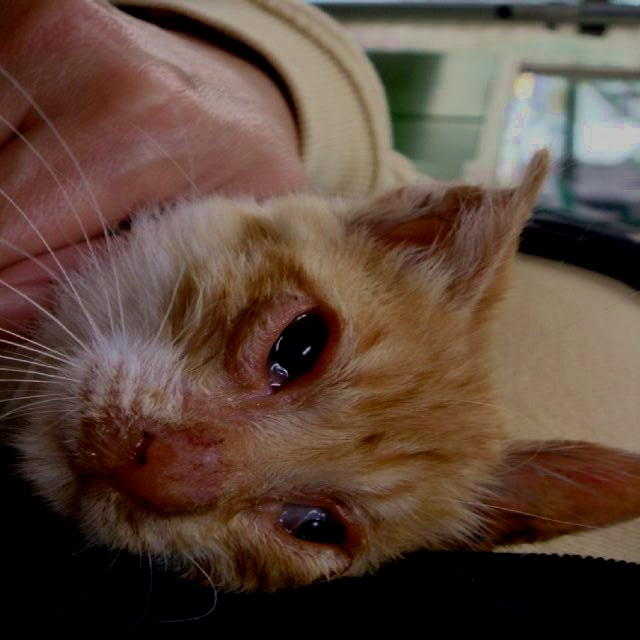eye_infection: (251, 305, 337, 392), (270, 494, 355, 564)
